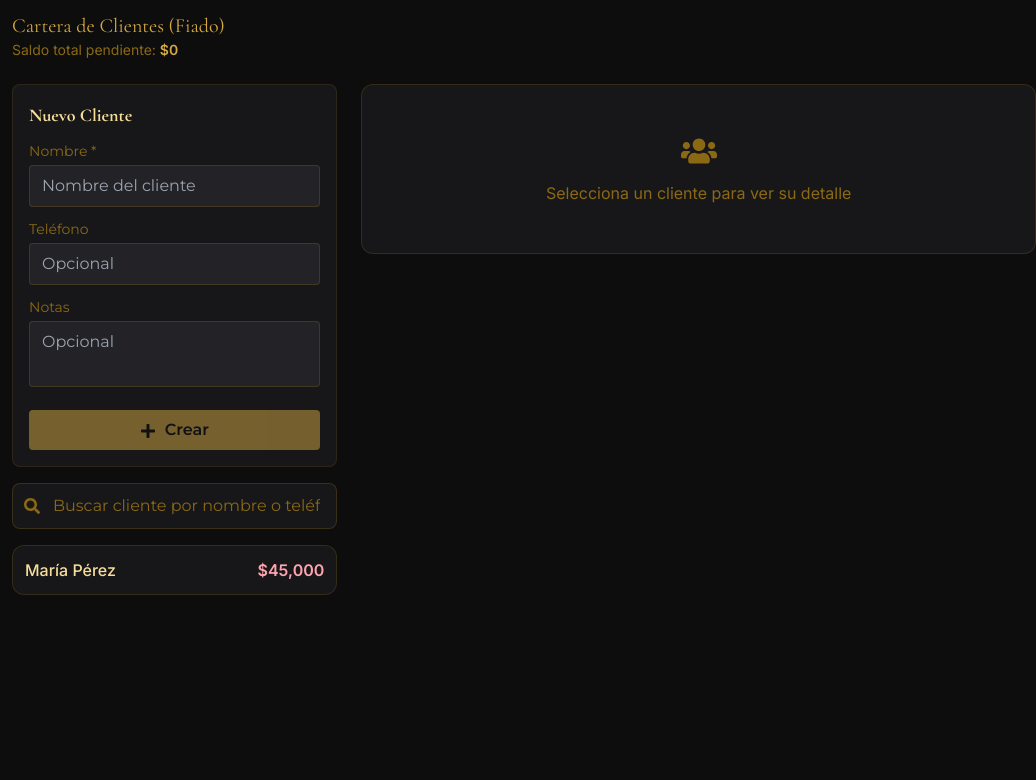
Test case: muestra error si el hook rechaza eliminar con saldo
The width and height of the screenshot is (1036, 780).
What coordinates should you click on to do the following:
click the text "María Pérez"
I would click on:
 (70, 570)
Its box is [25,558,116,582].
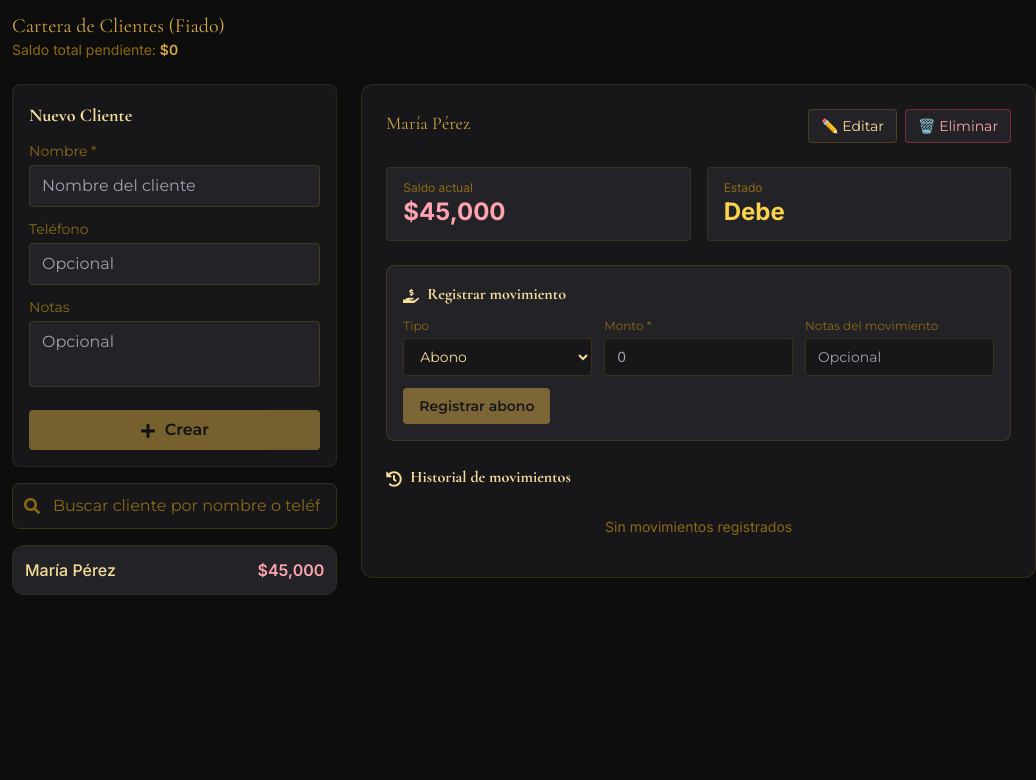
What coordinates should you click on to do the following:
click the button "🗑️ Eliminar"
I would click on:
 (958, 126)
Its box is [905,109,1011,143].
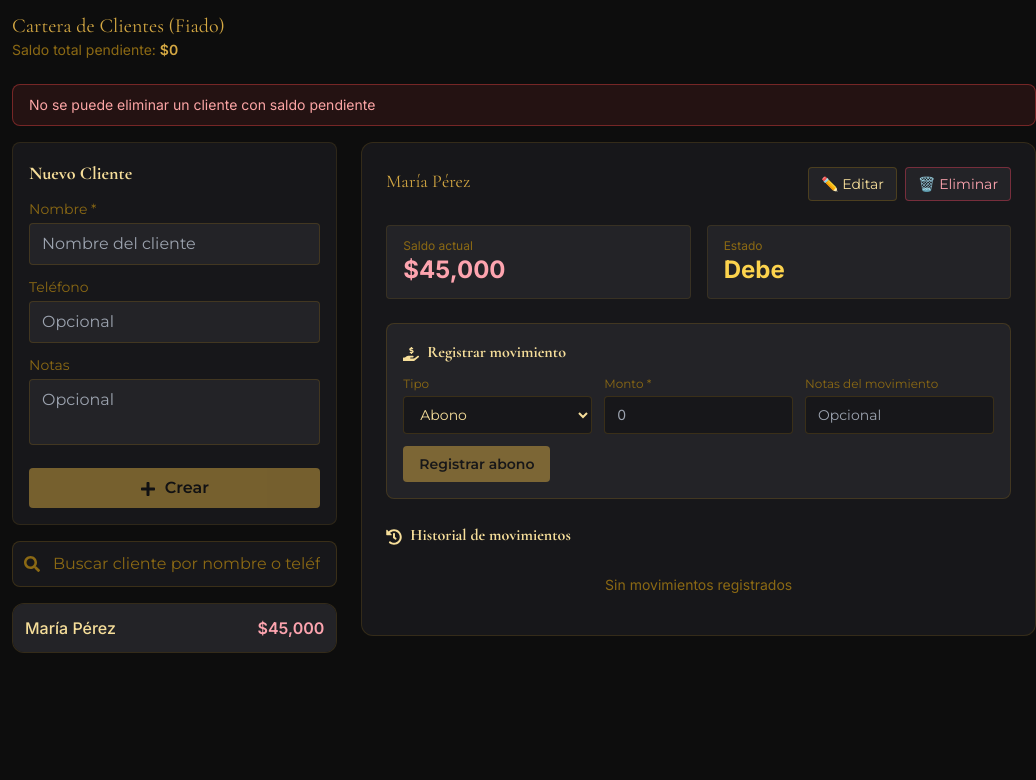
Expected: the text "No se puede eliminar un cliente con saldo pendiente" is shown, [12,84,1035,126]
